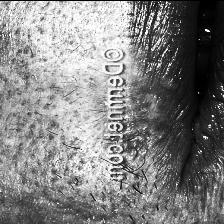Potentially Malignant Skin Tumors: (156, 74, 186, 98)
